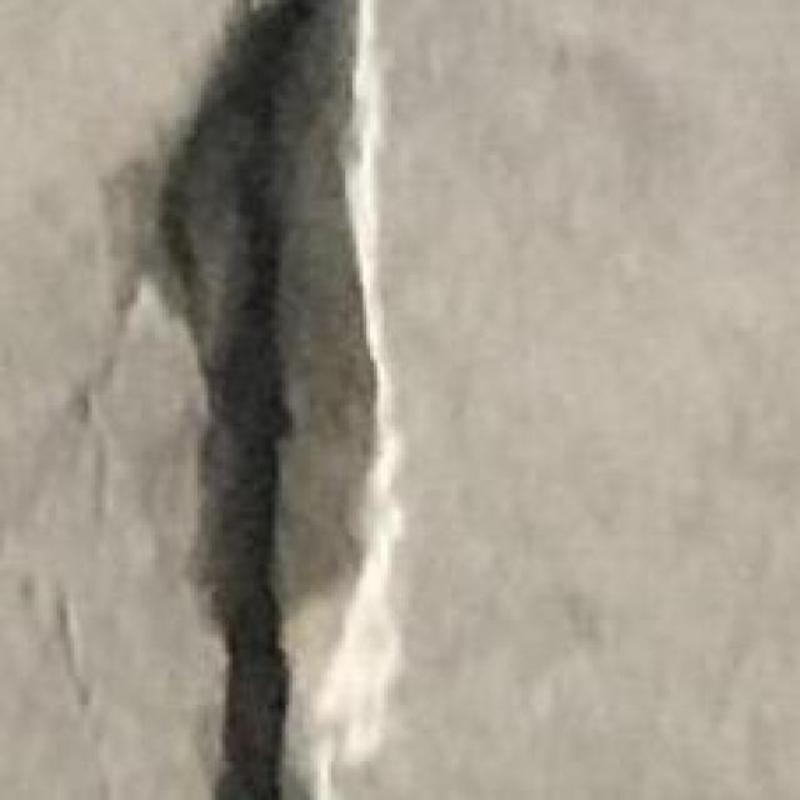crack: (159, 0, 324, 799)
